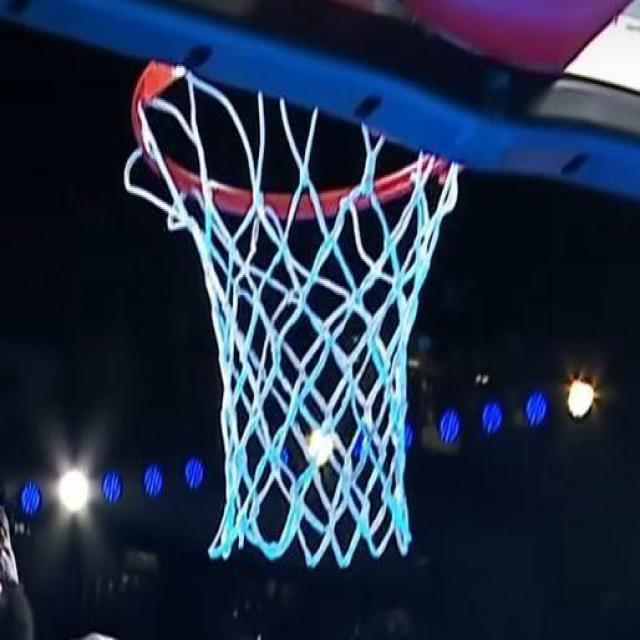hoop: (104, 71, 497, 570)
